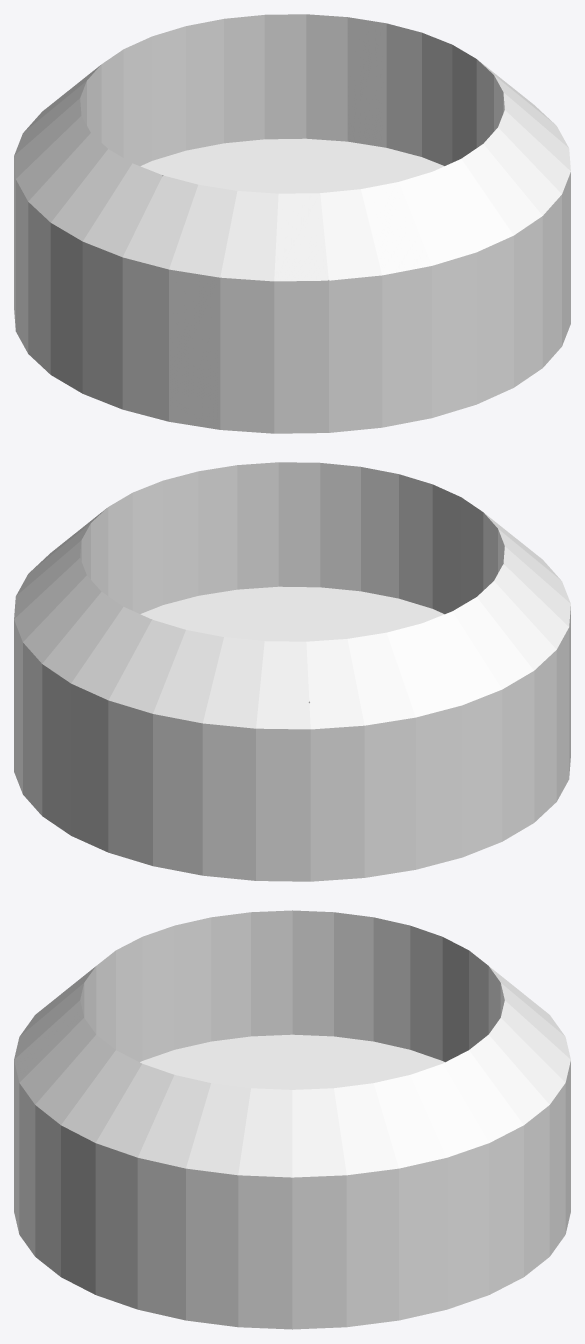
File: bossPartsCoreStand.obj
3 renders of one model, top to bottom at view 1: azimuth 30°, elevation 25°; view 2: azimuth 150°, elevation 25°; view 3: azimuth 270°, elevation 25°, orthographic.
Parts seen in each view (by area): view 1: 円柱; view 2: 円柱; view 3: 円柱.
Part boxes in pixels (left/top/right/bottom): 円柱: left=14, top=14, right=570, bottom=433; 円柱: left=14, top=462, right=570, bottom=881; 円柱: left=14, top=910, right=570, bottom=1329.
Size of the model in its own units: 2 by 0.8384 by 2.
Materials: 1 (1 with a texture image).
